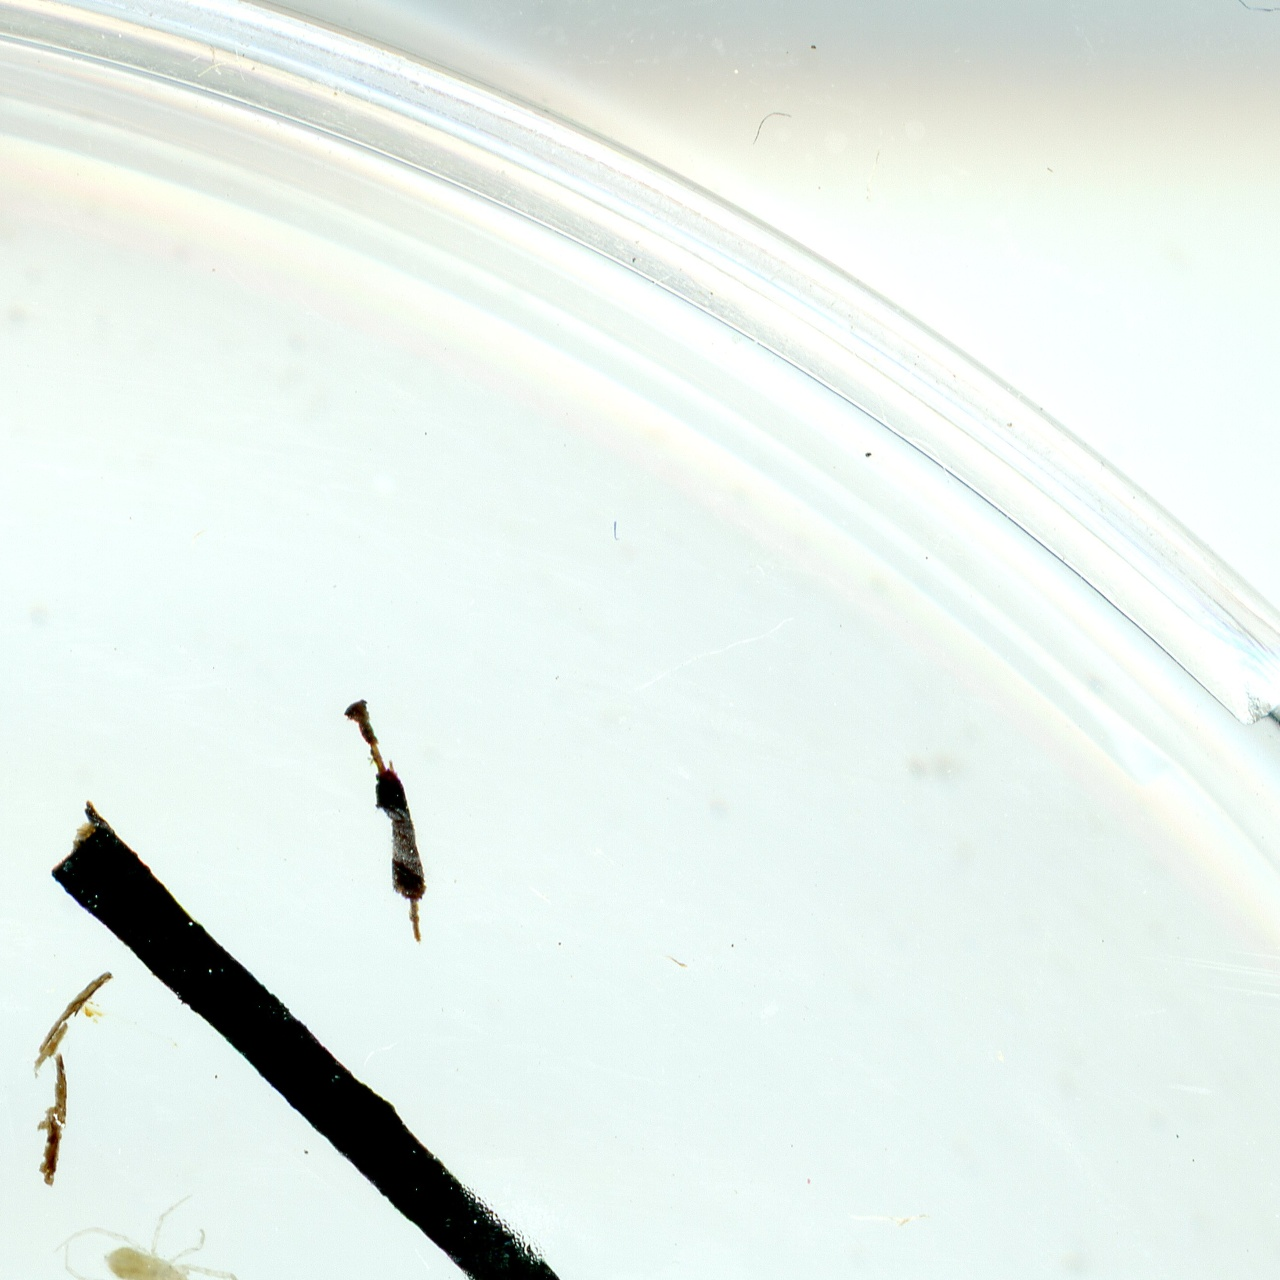arthropod: (48, 1189, 244, 1280)
